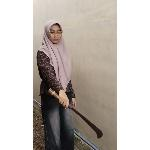Golok: (48, 88, 106, 140)
